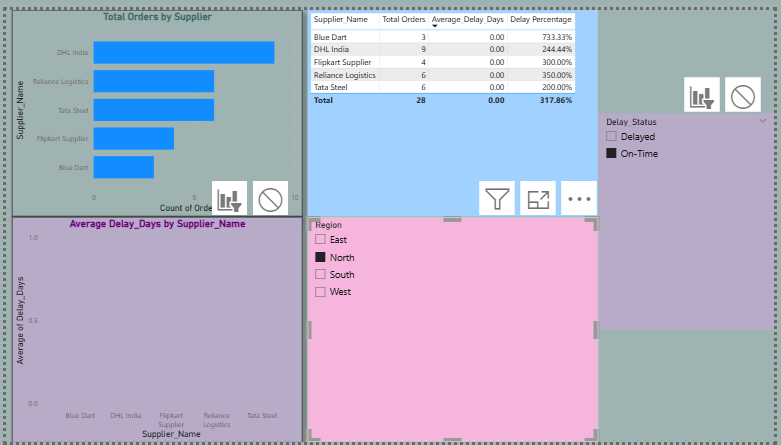

Layout of this report page (visuals, bound fields, positions):
{"tool":"powerbi","page":{"name":"Supplier Risk Dashboard","canvas":[1280,720],"ordinal":1},"visuals":[{"type":"clusteredBarChart","title":"Total Orders by Supplier","fields":{"Category":["supply_chain_data.Supplier_Name"],"Y":["CountNonNull(supply_chain_data.Order_ID)"]},"box":[9.4,0,483.8,343.9],"z":0},{"type":"clusteredColumnChart","title":"Average  Delay_Days by Supplier_Name","fields":{"Category":["supply_chain_data.Supplier_Name"],"Y":["Avg(supply_chain_data.Delay_Days)"]},"box":[9.4,343.9,483.8,376.1],"z":1},{"type":"tableEx","fields":{"Values":["supply_chain_data.Supplier_Name","supply_chain_data.Order_ID","supply_chain_data.Average_Delay_Days","supply_chain_data.Delay Percentage"]},"box":[503,0,484,344],"z":2},{"type":"slicer","fields":{"Values":["supply_chain_data.Region"]},"box":[503,344,484,376],"z":3},{"type":"slicer","fields":{"Values":["supply_chain_data.Delay_Status"]},"box":[986.5,172,292.9,360.9],"z":4}]}

Visuals, with their boxes in screenshot pixels (x1, y1, x2, y2), scaled from the page's 1280x720 canvas onto the 781x445 screenshot:
"Total Orders by Supplier" clusteredBarChart: {"x1": 6, "y1": 0, "x2": 301, "y2": 213}
"Average  Delay_Days by Supplier_Name" clusteredColumnChart: {"x1": 6, "y1": 213, "x2": 301, "y2": 444}
tableEx - supply_chain_data.Supplier_Name x supply_chain_data.Order_ID: {"x1": 307, "y1": 0, "x2": 602, "y2": 213}
slicer - supply_chain_data.Region: {"x1": 307, "y1": 213, "x2": 602, "y2": 444}
slicer - supply_chain_data.Delay_Status: {"x1": 602, "y1": 106, "x2": 780, "y2": 329}
